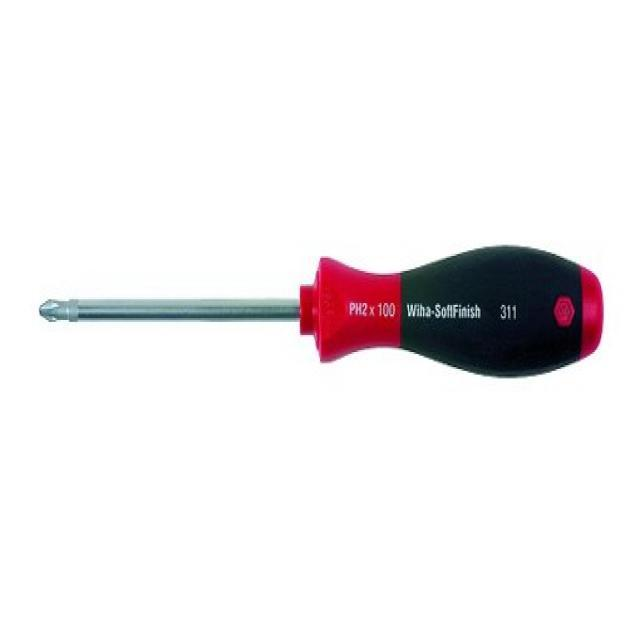screwdriver: (18, 222, 608, 396)
